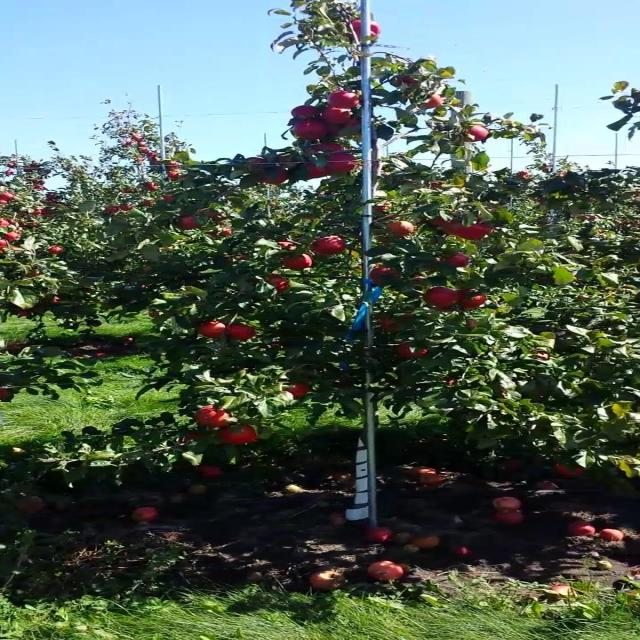apple: (198, 408, 235, 428), (426, 288, 459, 308), (220, 428, 260, 444), (326, 120, 363, 137), (369, 268, 402, 286), (355, 20, 384, 40), (312, 240, 348, 256), (298, 120, 325, 141), (397, 344, 428, 360), (461, 224, 492, 240), (198, 324, 228, 340), (326, 108, 356, 124), (333, 92, 363, 108), (461, 292, 491, 308), (227, 324, 256, 340), (284, 384, 313, 400), (383, 316, 412, 332), (333, 156, 359, 173), (284, 256, 313, 271), (305, 164, 329, 180), (269, 276, 292, 292), (262, 172, 292, 184), (468, 128, 491, 143), (20, 500, 46, 513), (390, 224, 418, 236), (291, 108, 320, 119), (419, 96, 443, 109), (184, 432, 212, 442), (326, 124, 347, 137), (561, 464, 583, 476), (447, 256, 469, 268), (397, 76, 420, 86), (205, 212, 228, 222), (433, 216, 452, 228), (184, 216, 199, 231), (319, 144, 343, 153), (212, 228, 235, 237), (447, 224, 464, 236), (276, 156, 297, 164), (532, 352, 549, 360), (284, 244, 299, 251), (255, 160, 270, 165), (447, 380, 457, 387), (468, 320, 476, 328), (376, 208, 389, 212), (433, 184, 443, 188), (20, 312, 30, 316)
